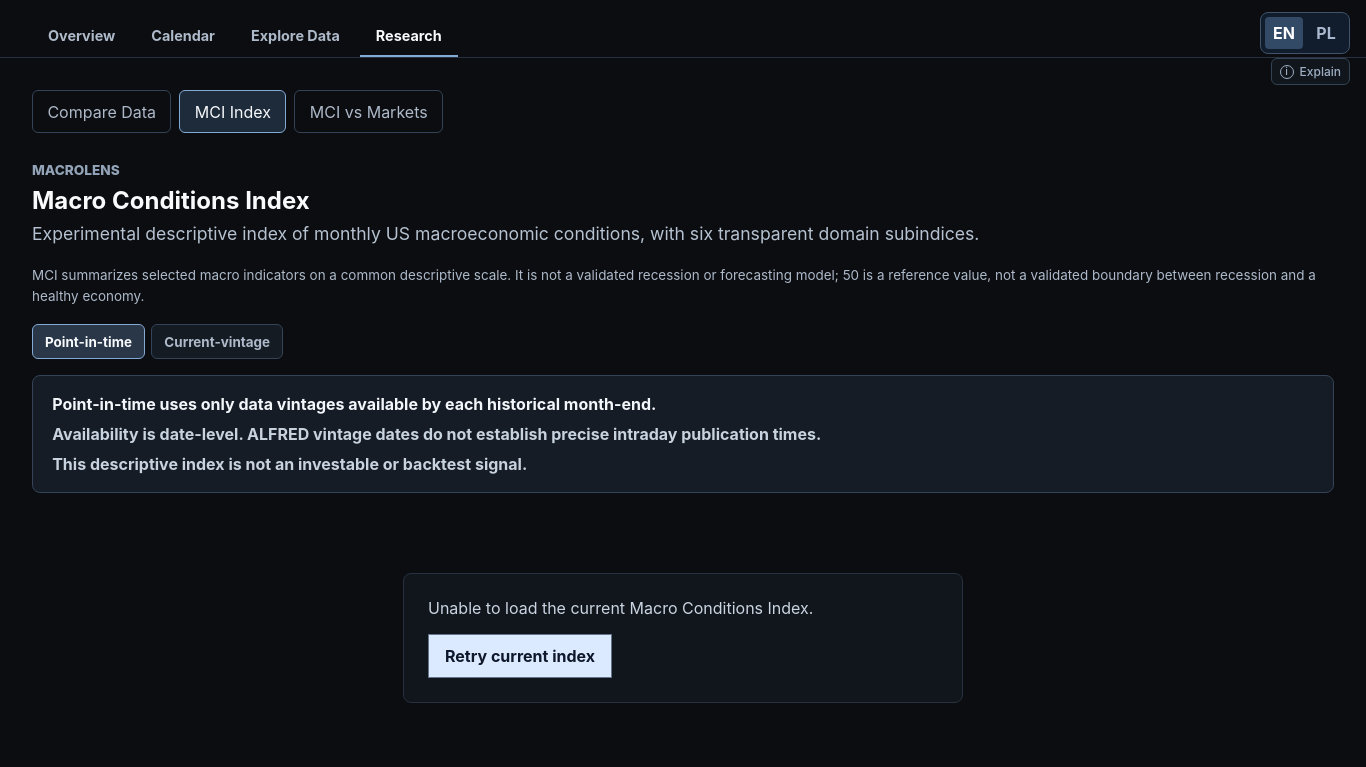
Test case: Macro Conditions Index v1 › empty history and retry states are explicit
Expected: the message shows "Unable to load the current Macro Conditions Index", [428,598,813,618]
Click the button "Retry current index".
click(520, 656)  # box [428,634,612,678]
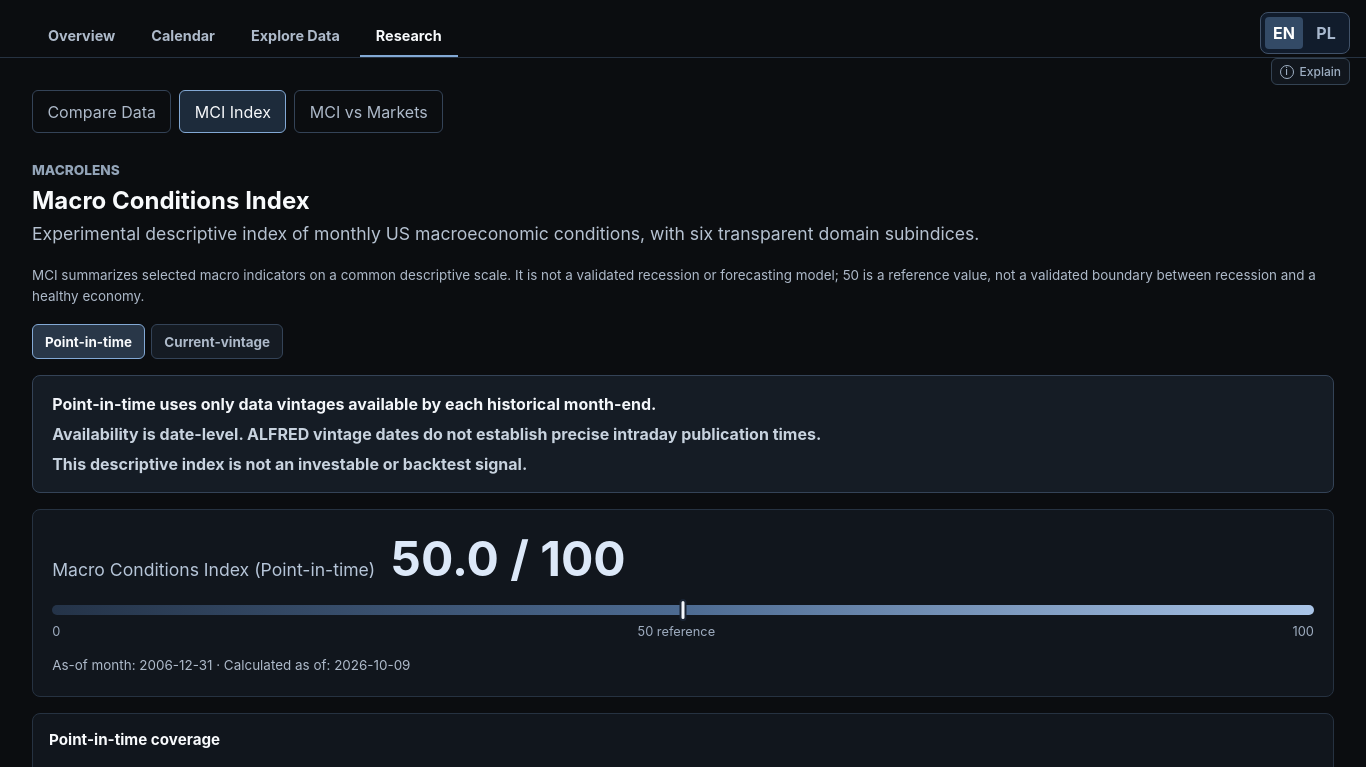
Result: the element named "Current Macro Conditions Index" shows "50.0 / 100" at [32,508,1334,697]
Result: the message "Unable to load the current Macro Conditions Index. Retry current index" is gone
